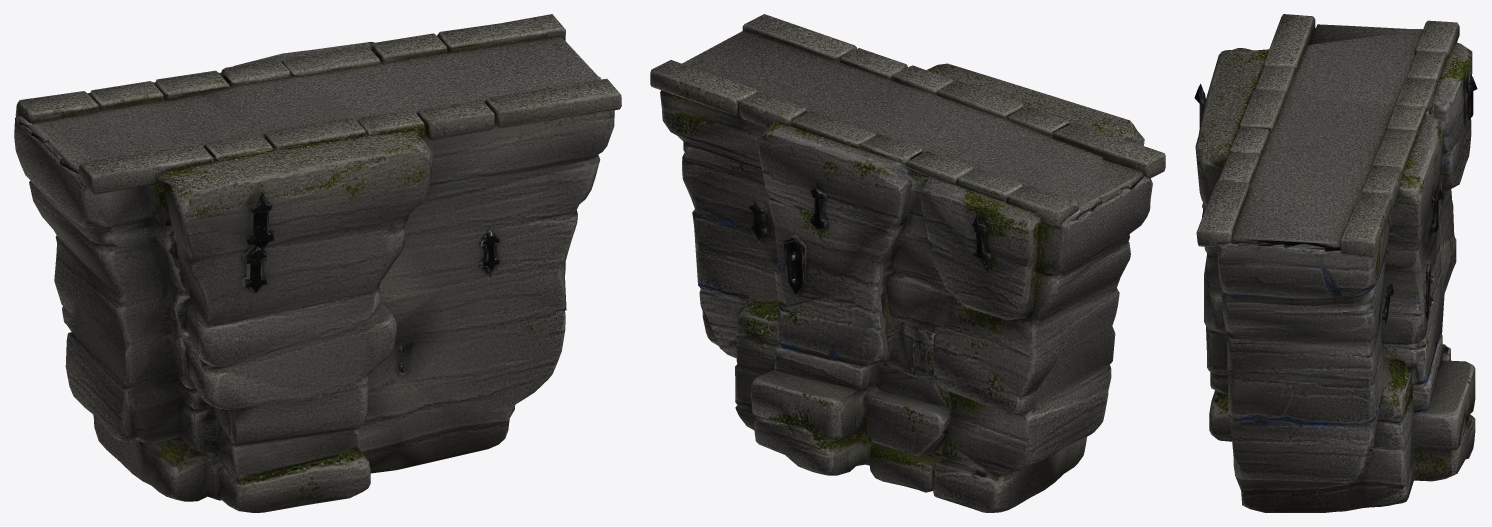
The model's file is tripo_convert_ef7c977c-7c4d-49bc-be06-b97777a40795.fbx.
The picture shows the model from 3 angles, left to right: view 1: azimuth 30°, elevation 25°; view 2: azimuth 150°, elevation 25°; view 3: azimuth 270°, elevation 25°; orthographic projection. The views are drawn at different scales.
Visible parts, largest first — view 1: tripo_node_ef7c977c; view 2: tripo_node_ef7c977c; view 3: tripo_node_ef7c977c.
Boxes of the visible parts, bbox=[...] form: tripo_node_ef7c977c: bbox=[14, 14, 621, 512]; tripo_node_ef7c977c: bbox=[650, 14, 1165, 512]; tripo_node_ef7c977c: bbox=[1194, 14, 1477, 512].
Size of the model in its own units: 0.998 by 0.666 by 0.5215.
1 material, 1 textured.
